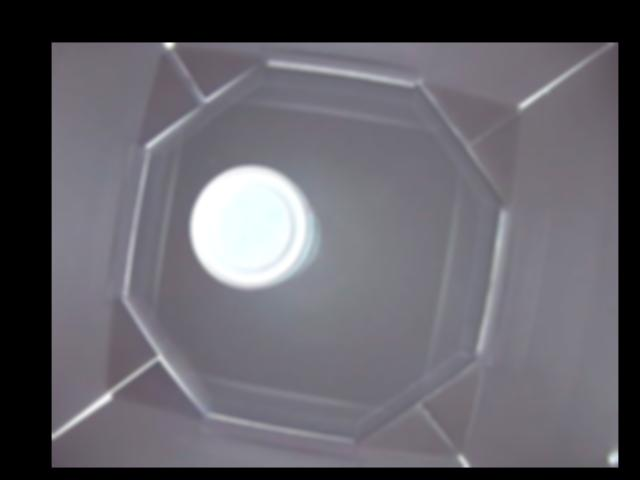Bottle: (186, 164, 317, 287)
